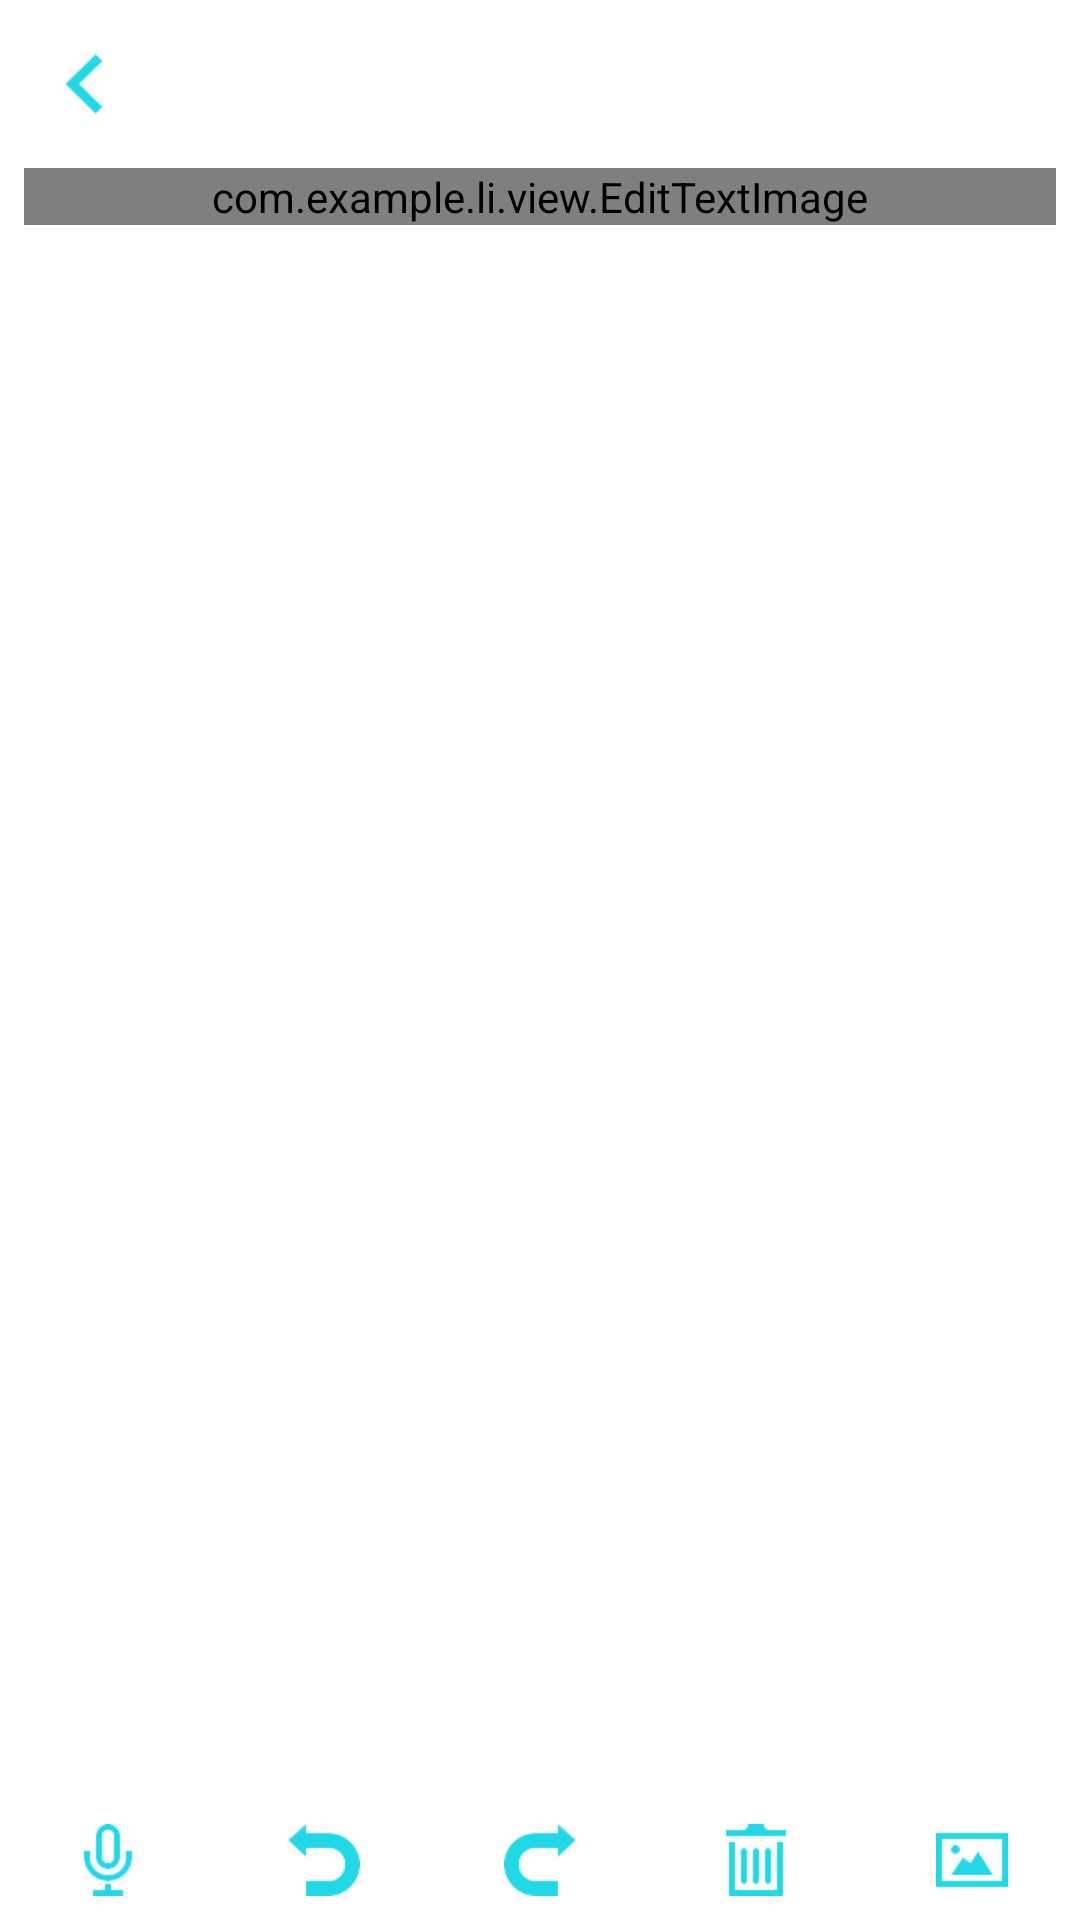

Where to tap for icons on this 1080 × 1920 app screen, as (x,y):
delete: (756,1860)
撤销: (324,1860)
语音输入: (108,1860)
重做: (540,1860)
